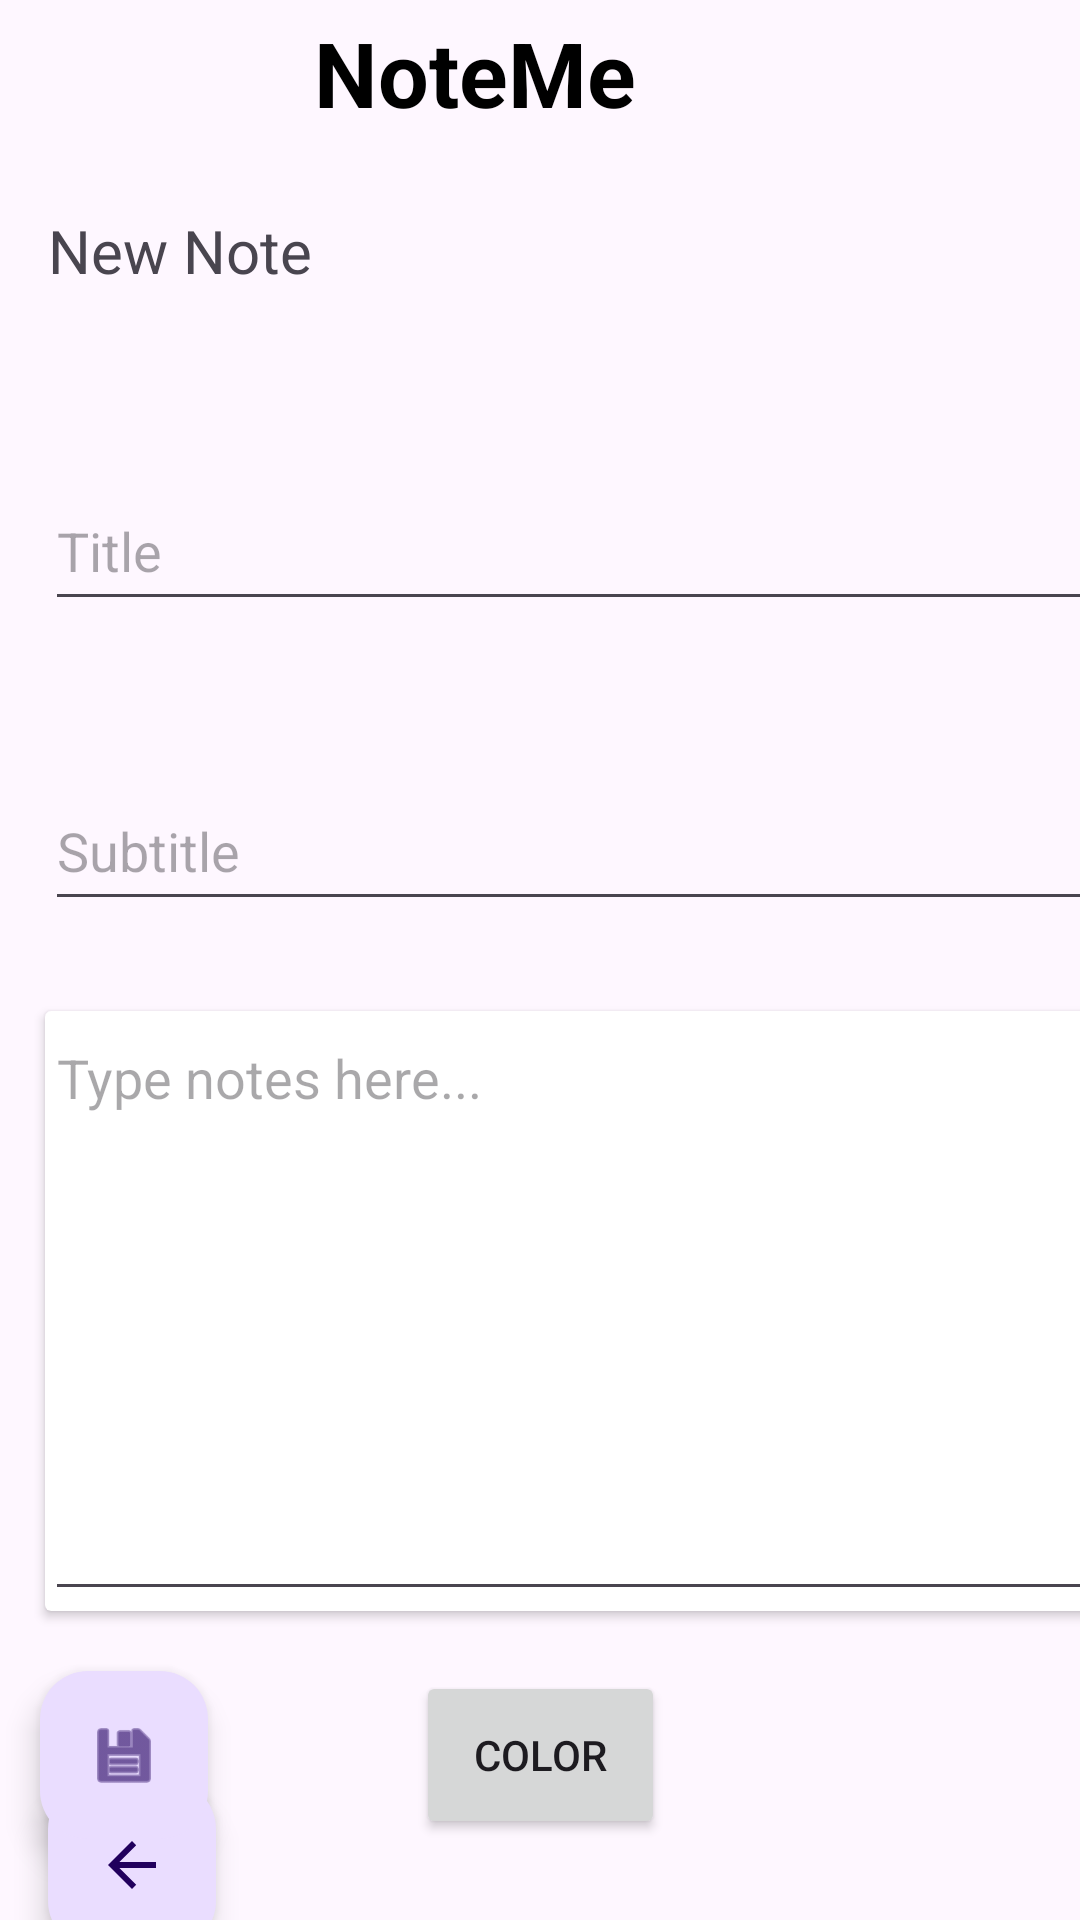

Where to tap for icons on this 1080w x 1920h app screen, as [x,y]:
save: [124,1755]
